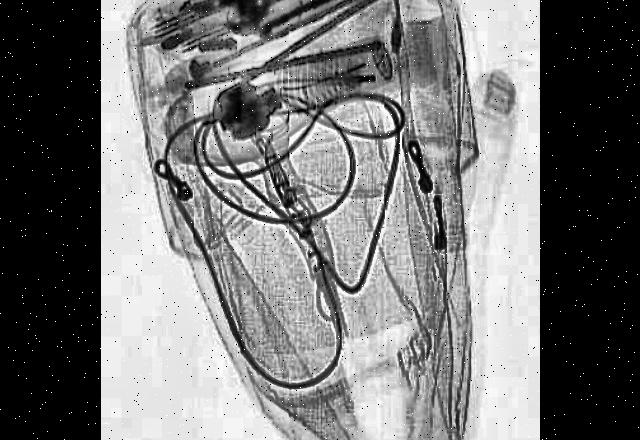Wrench: (216, 0, 381, 43)
